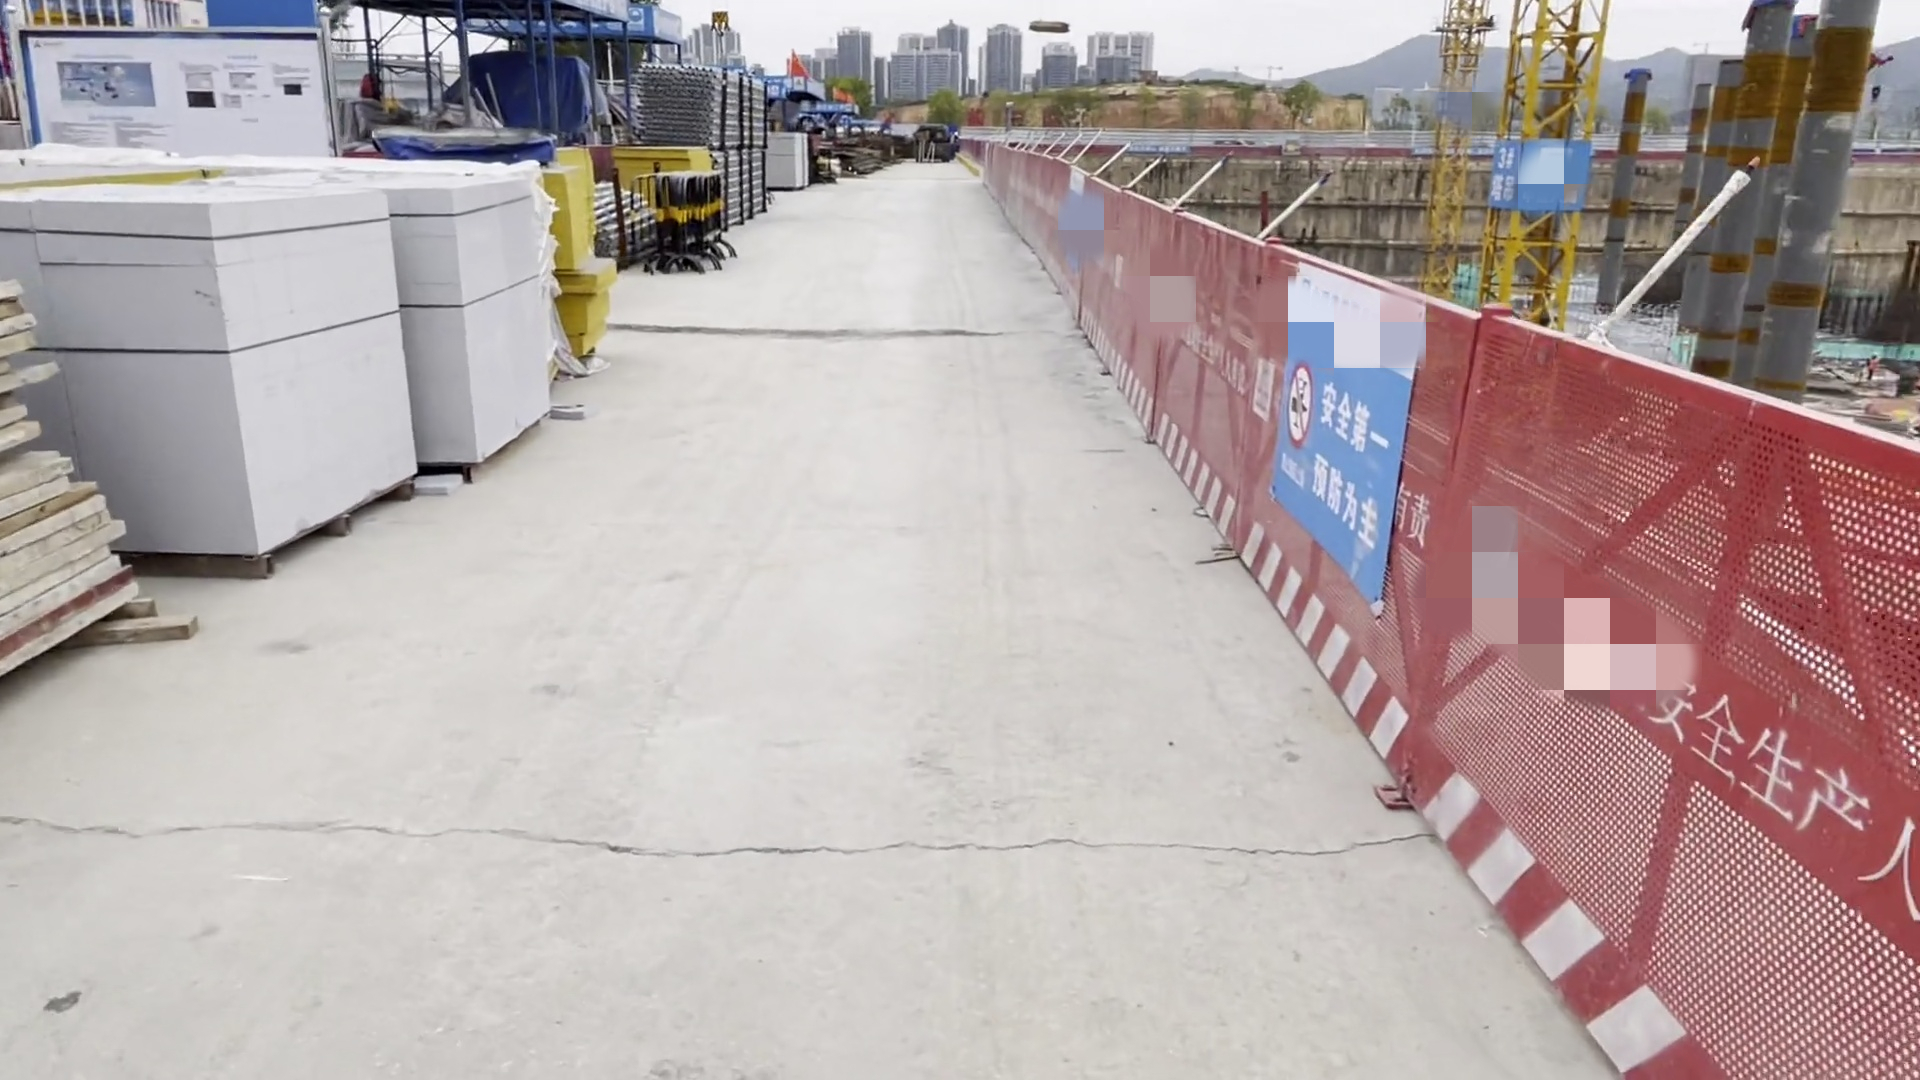brick: (12, 171, 588, 572)
fence: (984, 152, 1888, 1080)
